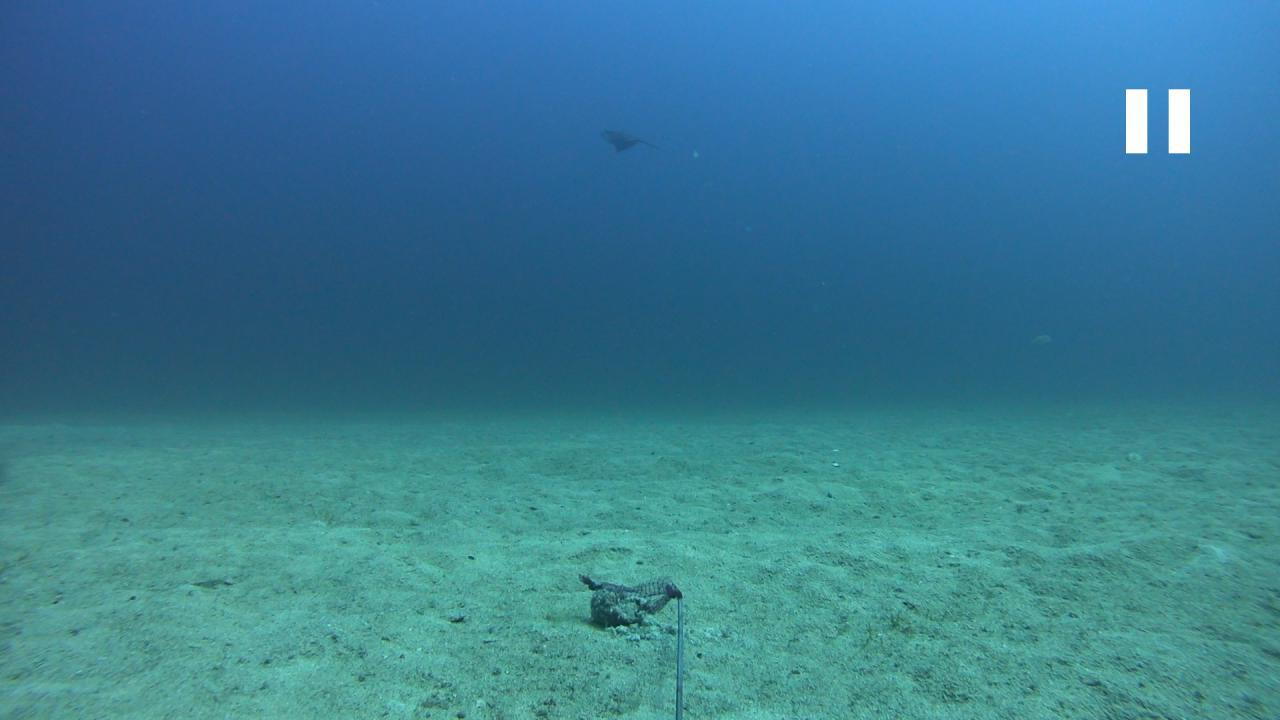dasyatis: (598, 128, 666, 155)
